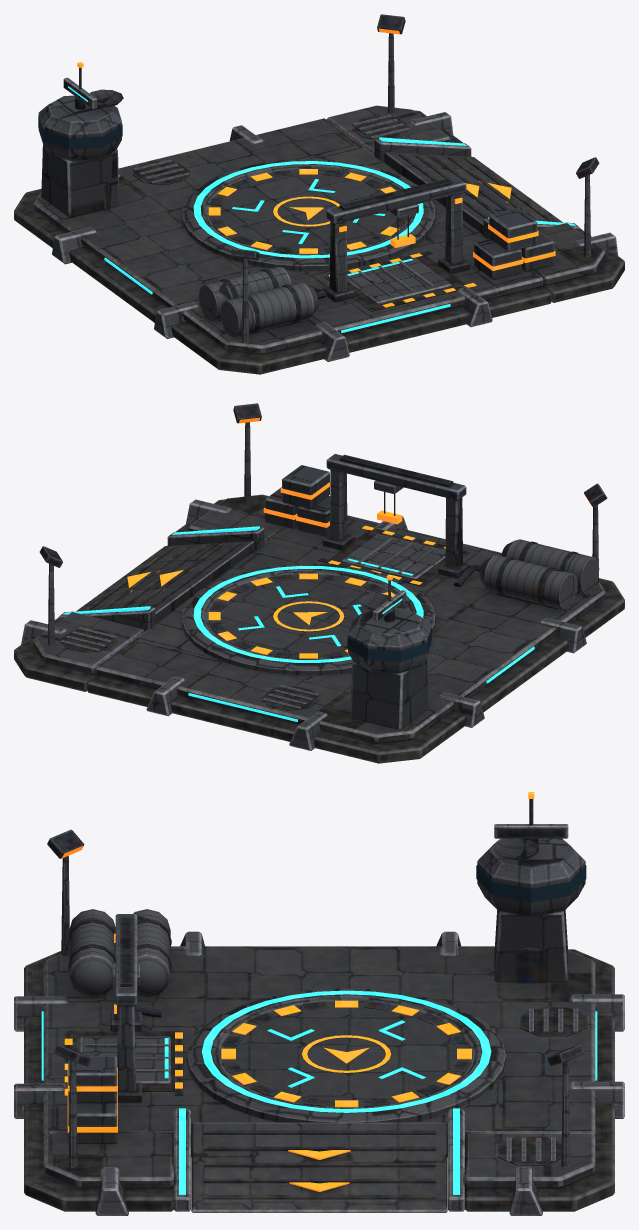
File: terran_landing_pad.glb
The picture shows the model from 3 angles, top to bottom: view 1: azimuth 30°, elevation 25°; view 2: azimuth 150°, elevation 25°; view 3: azimuth 270°, elevation 25°; orthographic projection. The views are drawn at different scales.
Parts seen in each view (by area): view 1: Hull, Scanner; view 2: Hull, Scanner; view 3: Hull, Scanner.
Boxes of the visible parts, x1,y1,x2,y2 form: Hull: (14, 14, 624, 374); Scanner: (63, 77, 96, 109); Hull: (14, 403, 624, 763); Scanner: (373, 590, 406, 622); Hull: (14, 792, 624, 1215); Scanner: (494, 824, 568, 843).
Size of the model in its own units: 12.4 by 4.47 by 12.4.
1 material, 1 textured.
